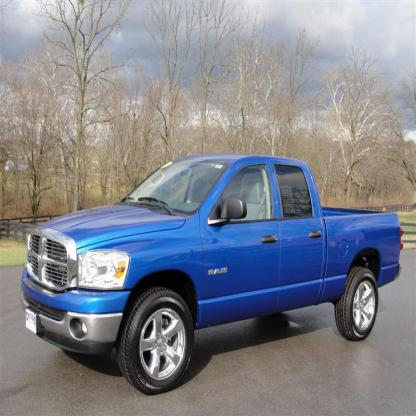Vehicle: (19, 150, 404, 402)
